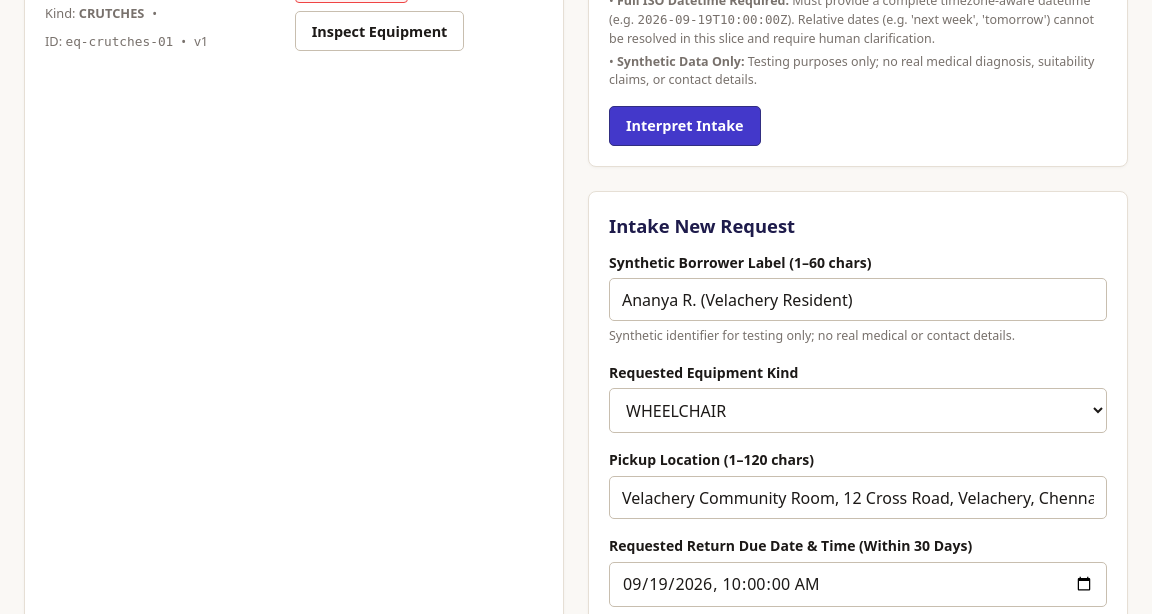
Test: Borrowed Steps M1 — Mocked-Backend Interface Tests › Mocked-backend test: Validates structured request intake form with boundary conditions
(page scrolled)
Note: Clear borrower label
Clear the field labelled "Synthetic Borrower Label (1–60 chars)". click: (858, 300)
box: [609,278,1107,321]
(page scrolled)
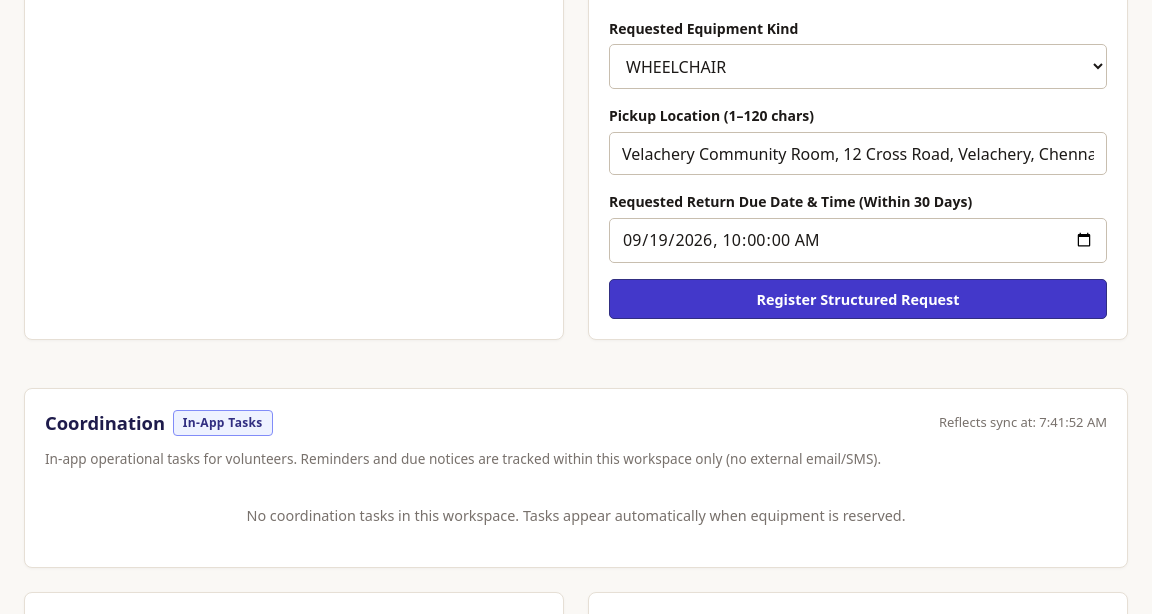
Click the button "Register Structured Request". click: (858, 299)
box: [609,279,1107,319]
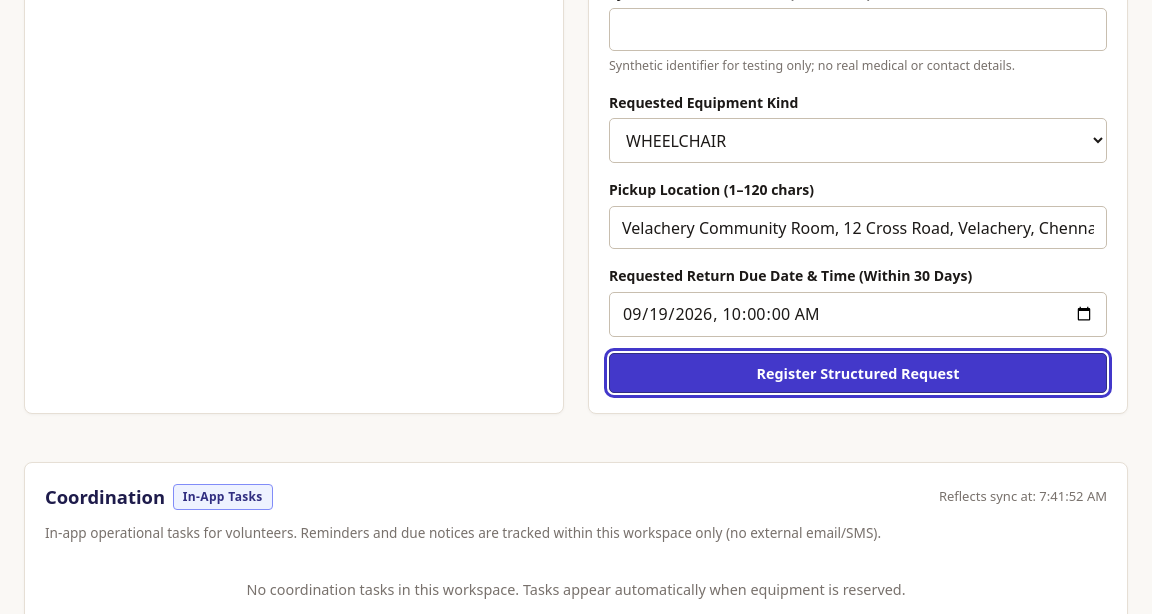
Note: Put valid label
Type "Priya S. (Velachery Resident)" into the field labelled "Synthetic Borrower Label (1–60 chars)". click: (858, 30)
box: [609,8,1107,51]
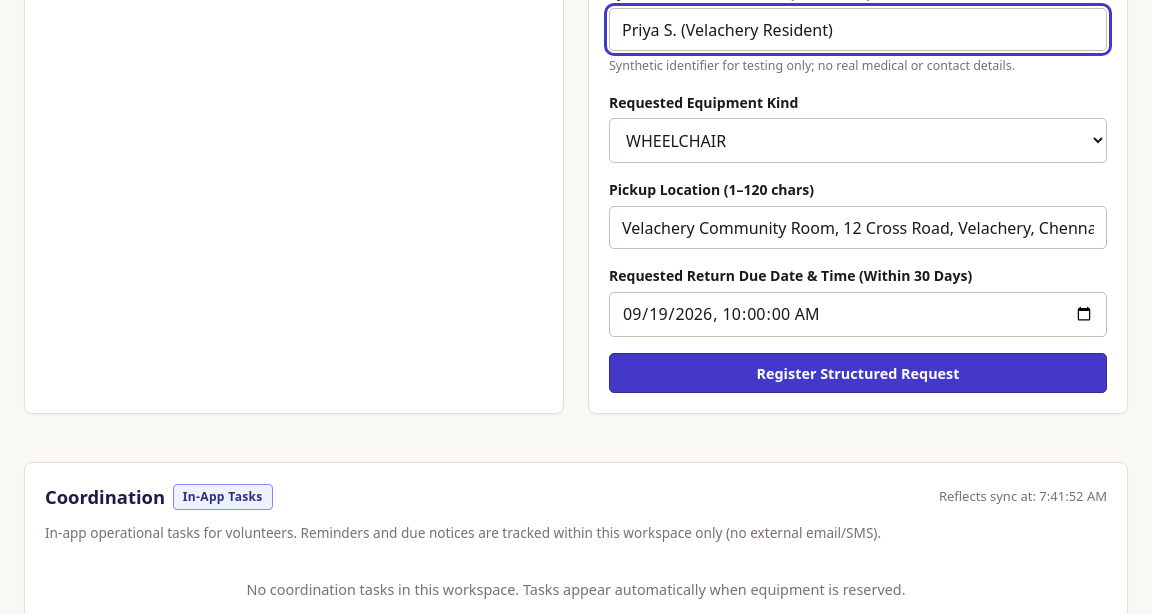
Note: Set invalid past date
Replace the text in the field labelled "Requested Return Due Date & Time (Within 30 Days)" with "2020-01-01T10:00". click: (858, 314)
box: [609,292,1107,337]
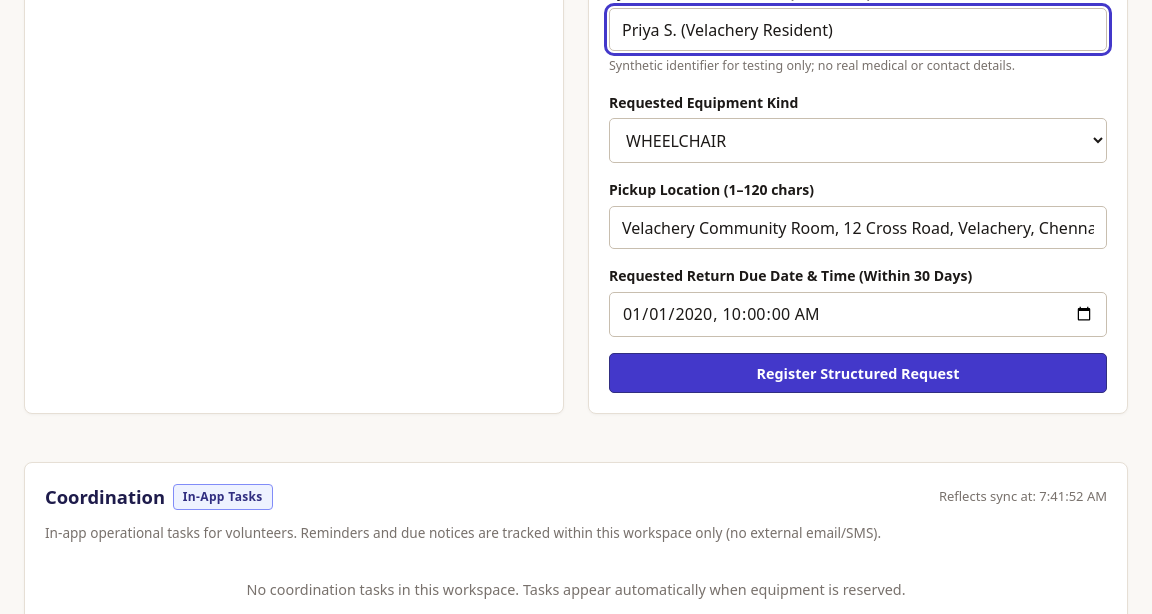
Click the button "Register Structured Request". click: (858, 373)
box: [609,353,1107,393]
(page scrolled)
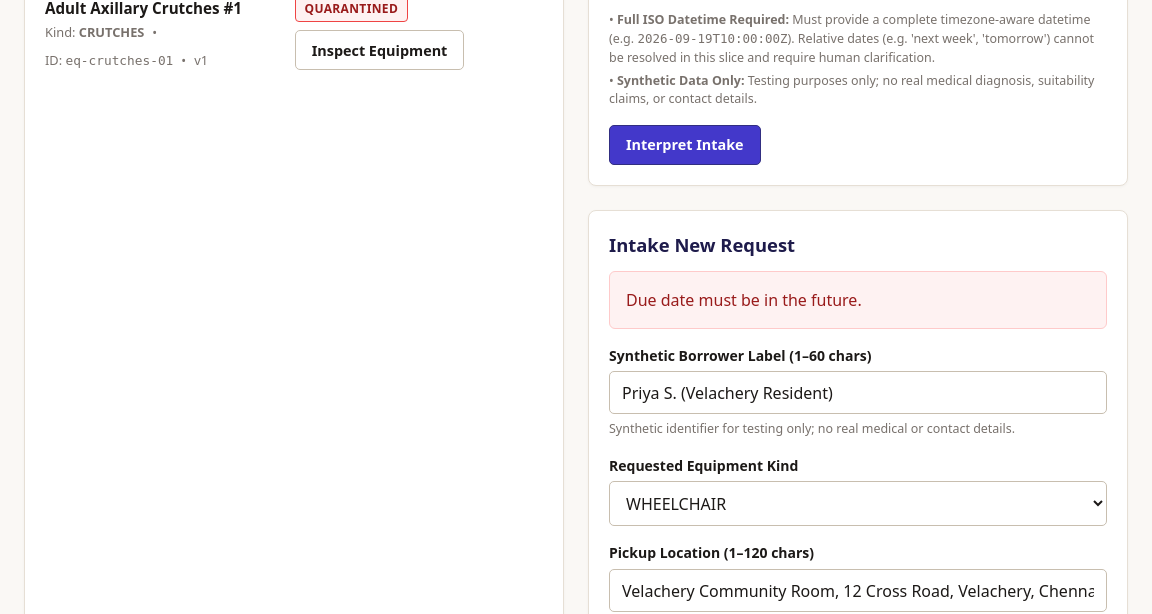
Now the message shows "Due date must be in the future", box [626,289,862,311]
